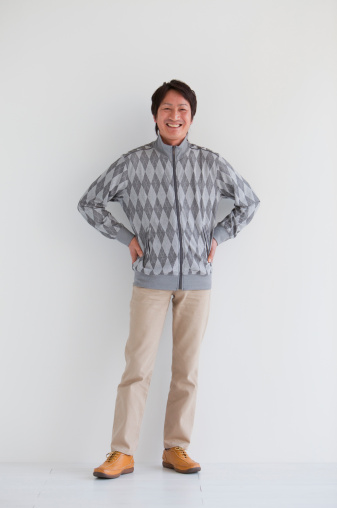em pe: (77, 63, 243, 486)
